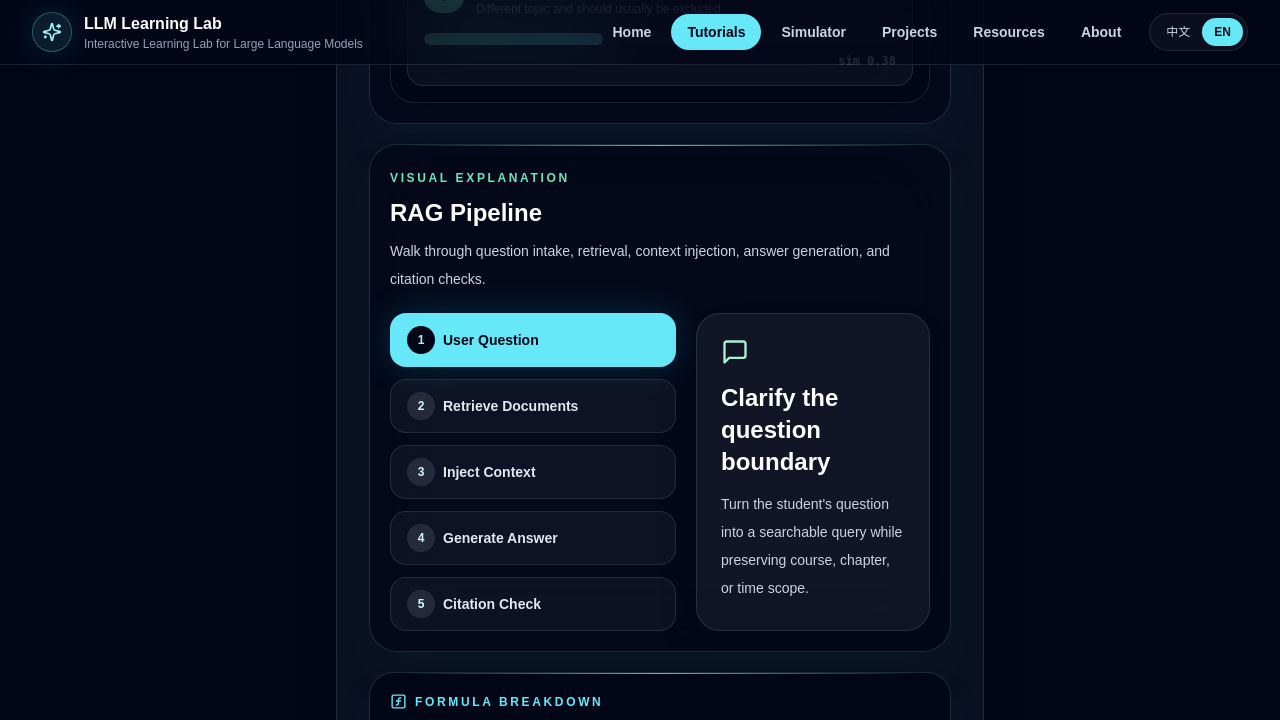
Test: LLM Learning Lab › renders the English RAG pipeline diagram and switches steps
This screenshot has width=1280, height=720.
(page scrolled)
Expected: the heading "RAG Pipeline" is shown, [390, 199, 542, 226]
Click the button "2 Retrieve Documents" at [533, 406], box [390, 379, 676, 433]
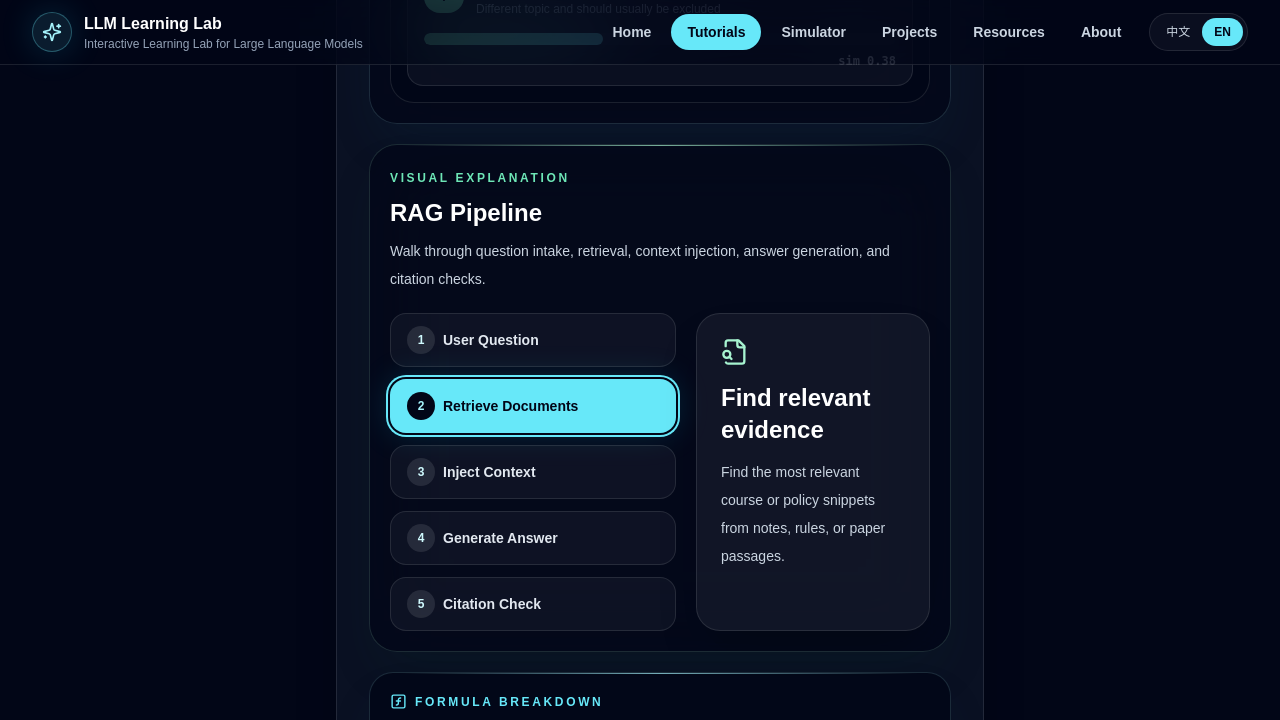
Expected: the text "Find the most relevant course or policy snippets" is shown, [721, 464, 885, 564]
